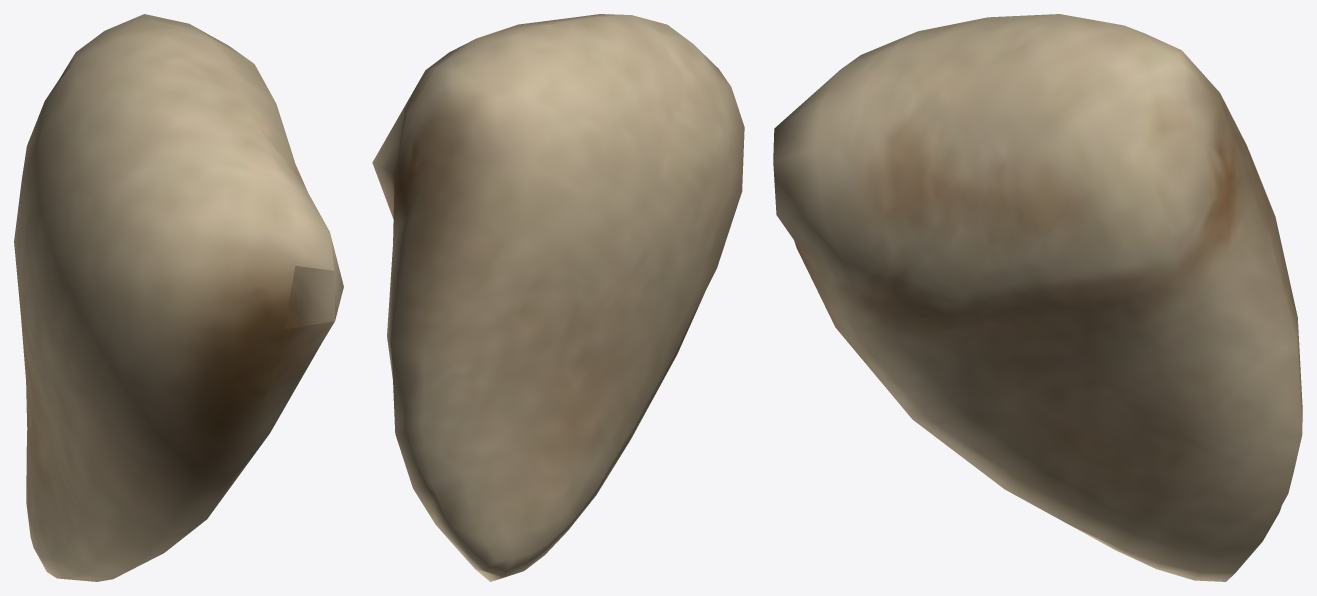
Rendered from Mandibular_Premolar4.glb.
The picture shows the model from 3 angles, left to right: view 1: azimuth 30°, elevation 25°; view 2: azimuth 150°, elevation 25°; view 3: azimuth 270°, elevation 25°; orthographic projection. The views are drawn at different scales.
Visible parts, largest first — view 1: Premolar4; view 2: Premolar4; view 3: Premolar4.
Boxes of the visible parts, x1,y1,x2,y2 form: Premolar4: (14, 14, 343, 581); Premolar4: (372, 14, 744, 581); Premolar4: (773, 14, 1302, 581).
Bounding box in the file's own units: 0.0188 × 0.0352 × 0.0297.
Materials: 1 (1 with a texture image).
